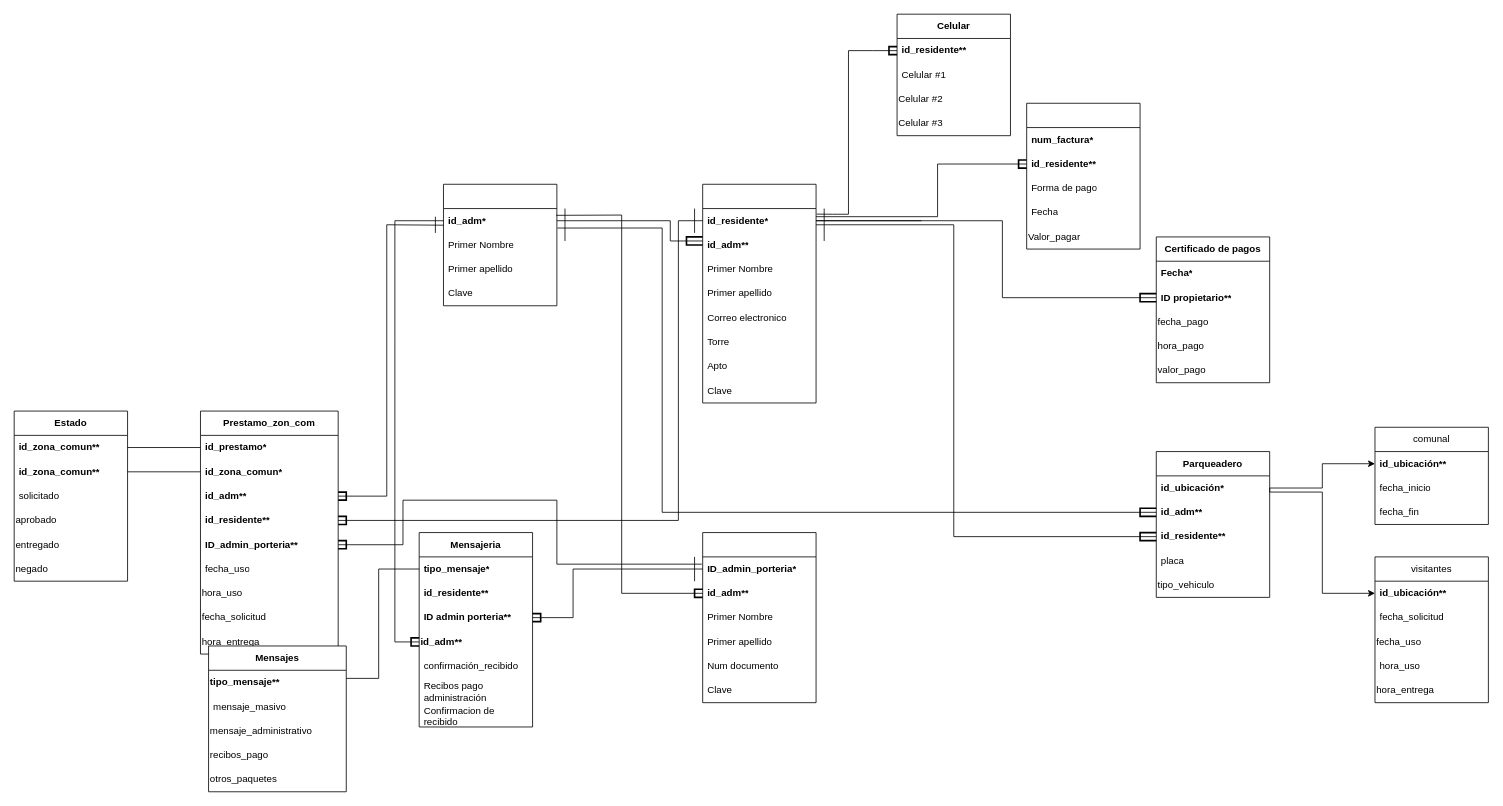
Some shapes in this 1503 by 806 pixel diagram are drawn without their labels. The box of each missing label's shape, as (x1, y1, x2, y2) in pixels:
Administrador: (443, 183, 557, 306)
Administrador porteria: (702, 532, 816, 703)
Pago Admin: (1026, 102, 1140, 249)
Usuario residente: (702, 183, 816, 403)
